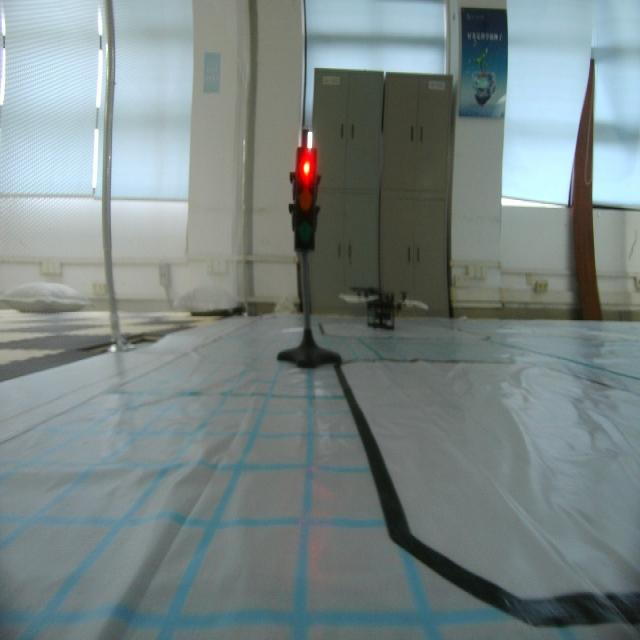red: (291, 143, 319, 254)
